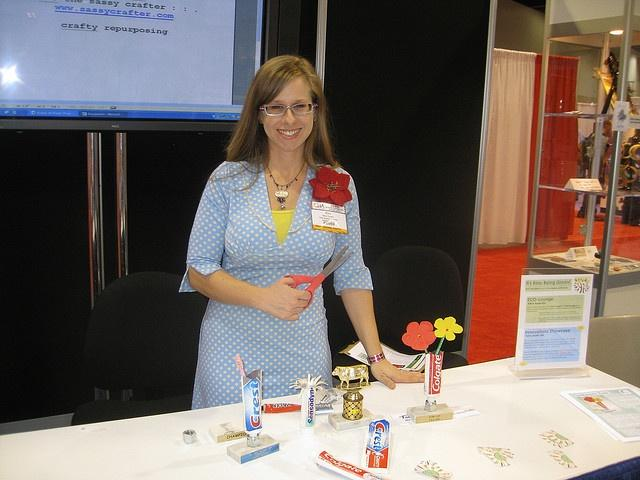AIO PC-Monitor-TV: (0, 0, 280, 134)
